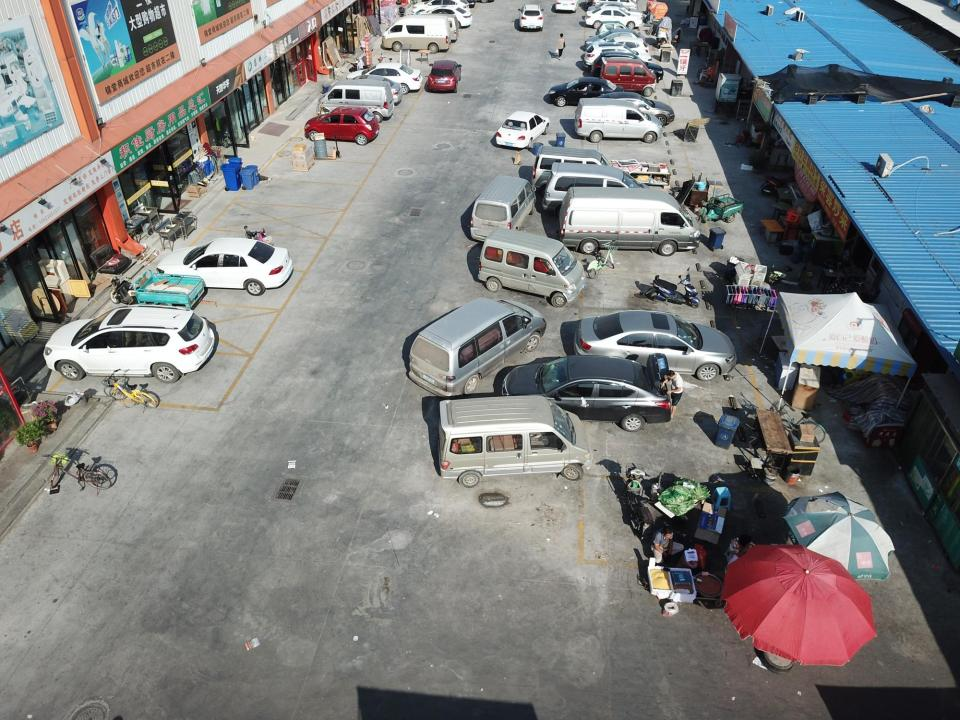car: (36, 305, 214, 383), (503, 354, 670, 432), (574, 308, 742, 380), (158, 239, 292, 295), (764, 390, 827, 448), (302, 107, 380, 146), (591, 90, 677, 125), (544, 75, 630, 109), (320, 72, 405, 106), (342, 62, 426, 96), (378, 13, 462, 47), (492, 109, 552, 150), (424, 57, 466, 92), (398, 0, 471, 18), (518, 4, 545, 31)
van: (407, 294, 547, 398), (432, 398, 592, 487), (557, 182, 700, 258), (474, 228, 586, 310), (543, 164, 683, 218), (466, 171, 543, 244), (571, 97, 662, 145), (316, 78, 397, 122), (379, 17, 452, 51)
